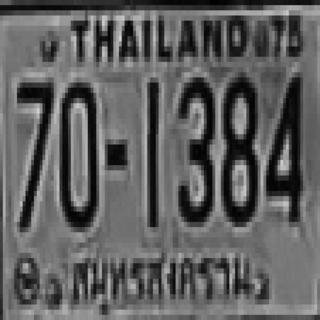N00: (58, 77, 98, 227)
N01: (146, 77, 157, 227)
N03: (176, 72, 212, 222)
N04: (263, 70, 300, 219)
N07: (16, 77, 52, 227)
N08: (220, 72, 256, 222)
P59: (62, 244, 260, 313)
